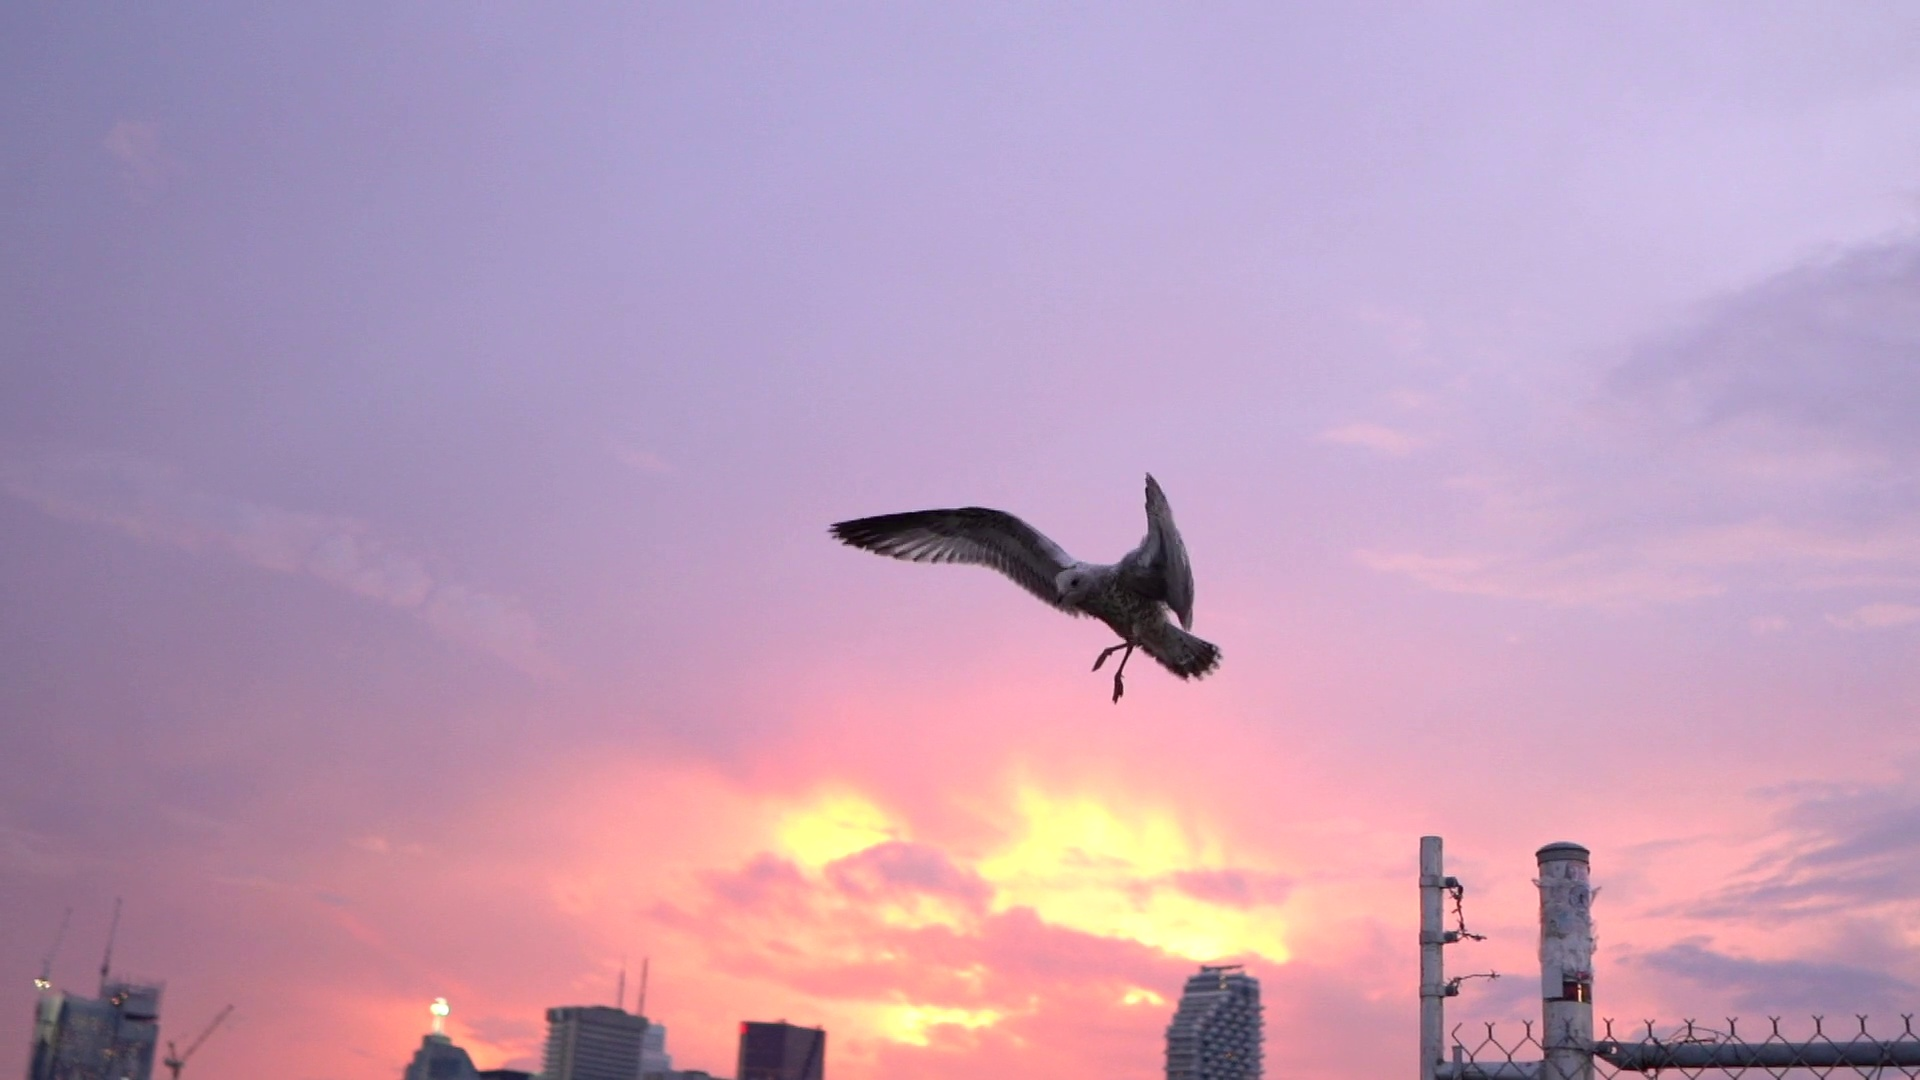bird: (829, 473, 1222, 704)
